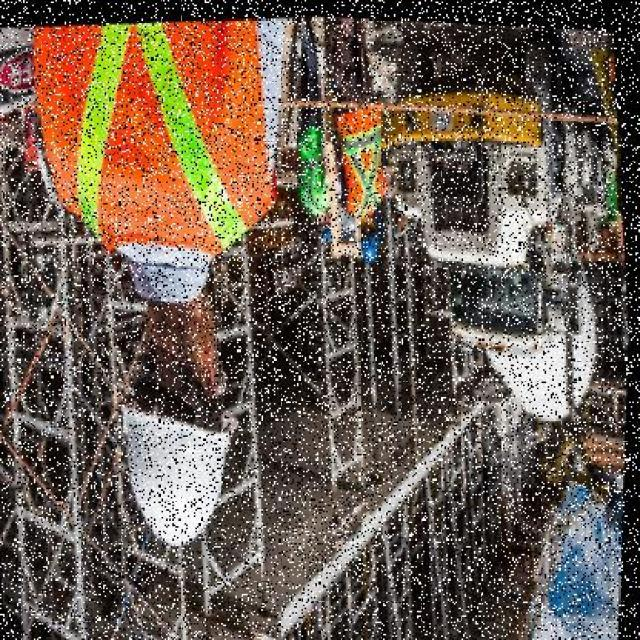helmet: (111, 382, 259, 552), (355, 216, 385, 262), (316, 211, 337, 241)
vest: (17, 5, 296, 293), (325, 88, 391, 214), (288, 100, 334, 216)
